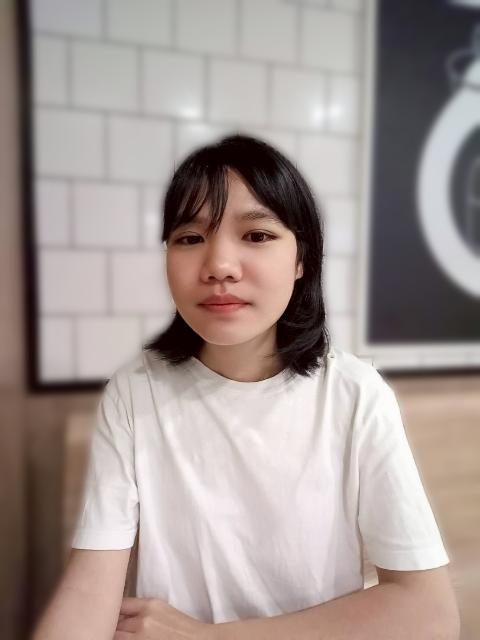fokus: (161, 153, 311, 346)
